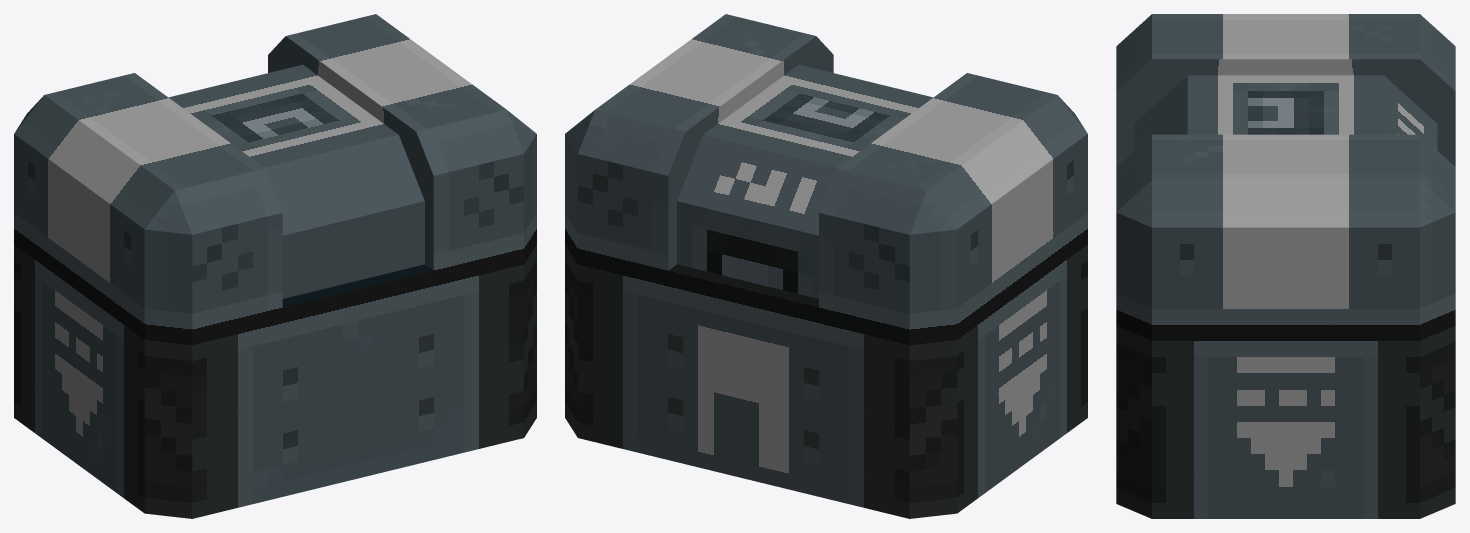
Rendered from new_tritanium_crate_silver.obj.
The picture shows the model from 3 angles, left to right: view 1: azimuth 30°, elevation 25°; view 2: azimuth 150°, elevation 25°; view 3: azimuth 270°, elevation 25°; orthographic projection. The views are drawn at different scales.
Parts seen in each view (by area): view 1: tritanium_crate_silver; view 2: tritanium_crate_silver; view 3: tritanium_crate_silver.
Part boxes in pixels (left/top/right/bottom): tritanium_crate_silver: left=14, top=14, right=536, bottom=518; tritanium_crate_silver: left=565, top=14, right=1087, bottom=518; tritanium_crate_silver: left=1116, top=14, right=1455, bottom=518.
Bounding box in the file's own units: 0.9958 × 0.766 × 0.7278.
